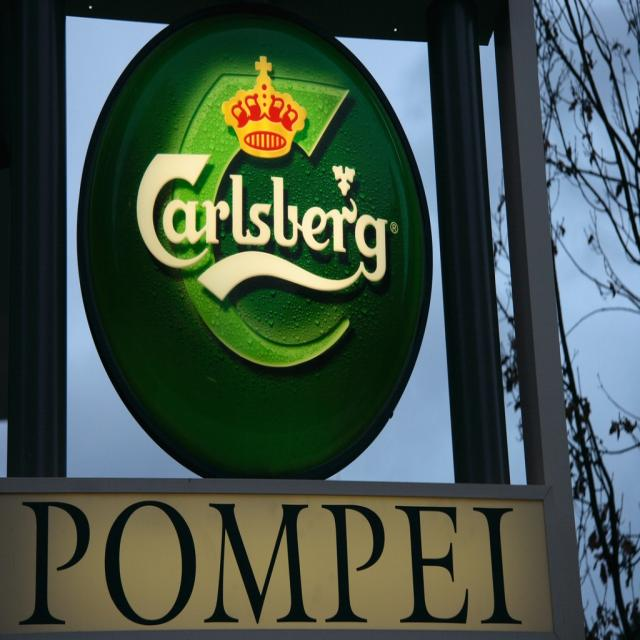carlsberg: (113, 25, 410, 408)
